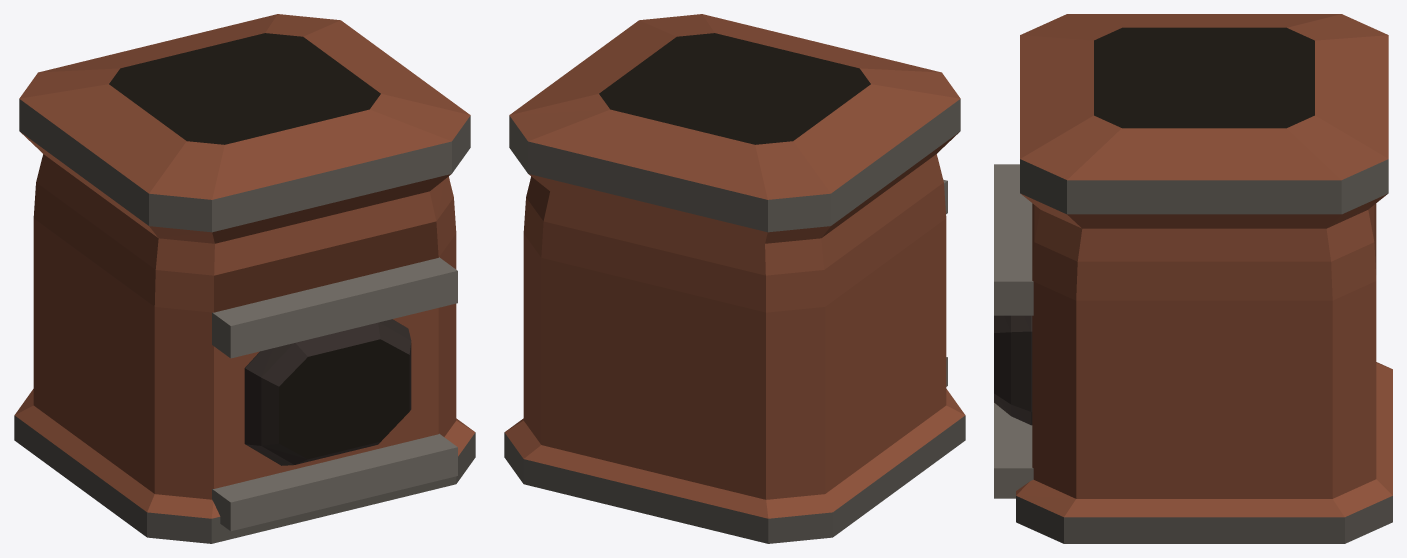
File: kiln.gltf
3 renders of one model, left to right at view 1: azimuth 30°, elevation 25°; view 2: azimuth 150°, elevation 25°; view 3: azimuth 270°, elevation 25°, orthographic. The views are drawn at different scales.
Parts seen in each view (by area): view 1: kiln; view 2: kiln; view 3: kiln.
Boxes of the visible parts, box(x1,y1,x2,y2) form: kiln: box(14, 14, 475, 543); kiln: box(504, 14, 965, 543); kiln: box(994, 14, 1392, 543).
Bounding box in the file's own units: 0.9545 × 1 × 0.948.
